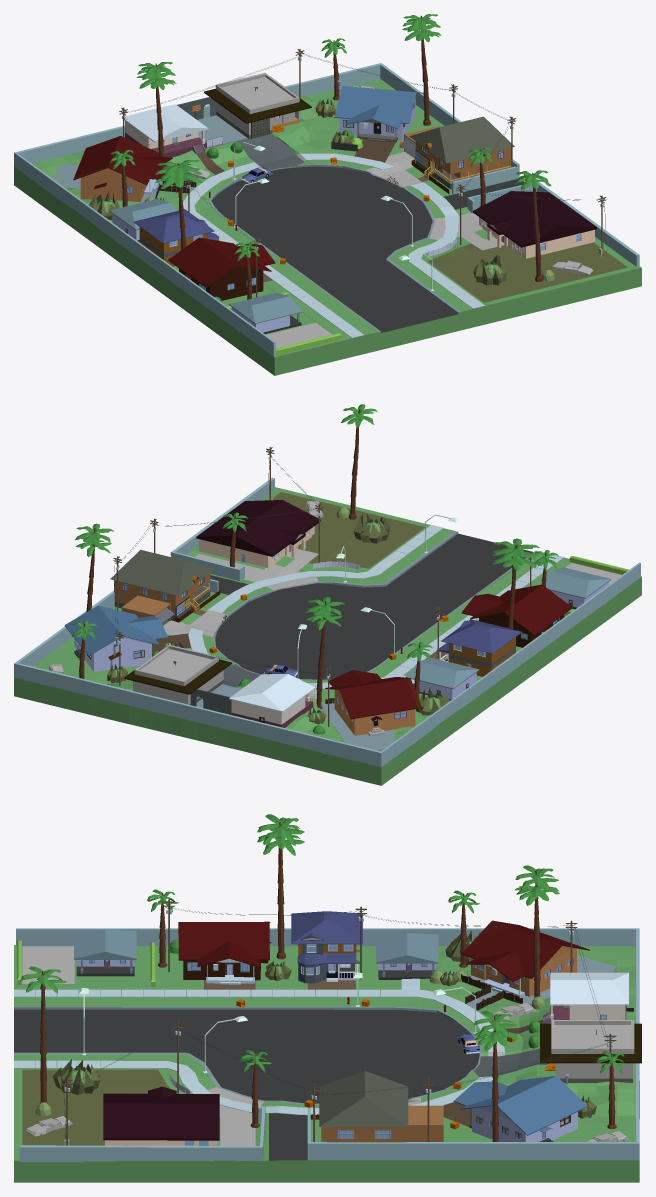
The model's file is grove_street (2).fbx.
3 renders of one model, top to bottom at view 1: azimuth 30°, elevation 25°; view 2: azimuth 150°, elevation 25°; view 3: azimuth 270°, elevation 25°, orthographic. The views are drawn at different scales.
Visible parts, largest first — view 1: grove_street; view 2: grove_street; view 3: grove_street.
Boxes of the visible parts, bbox=[...] form: grove_street: bbox=[14, 14, 641, 375]; grove_street: bbox=[14, 404, 641, 785]; grove_street: bbox=[14, 814, 641, 1182].
Bounding box in the file's own units: 10695 × 3522 × 12916.
